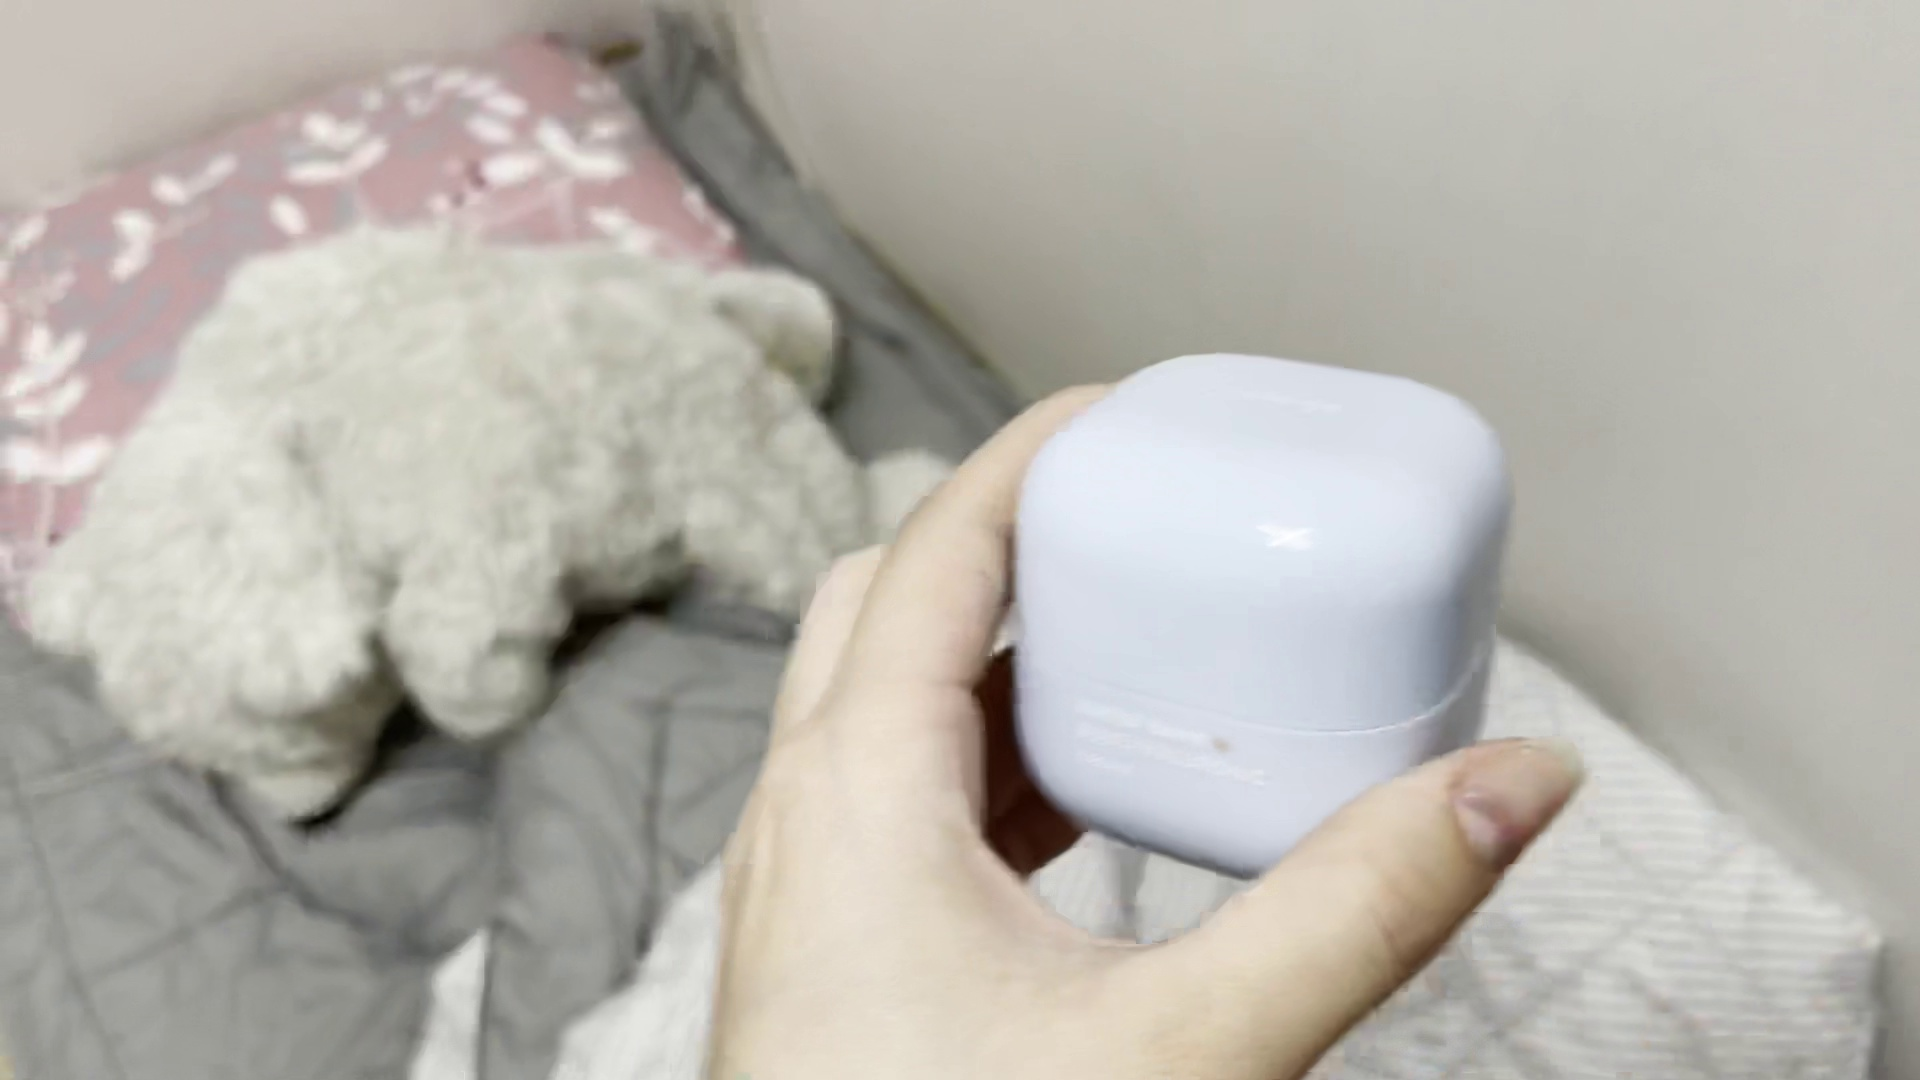cream: (1010, 343, 1514, 882)
